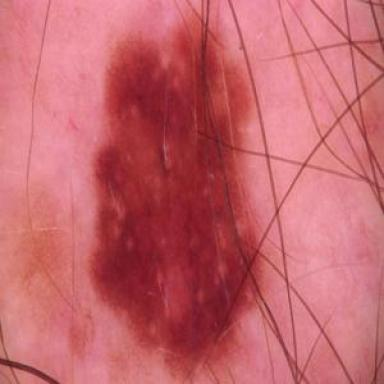Melanoma: (91, 18, 261, 384)
